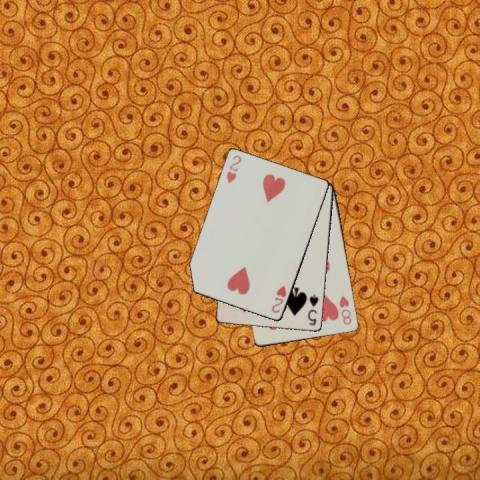2h: (223, 153, 243, 185), (269, 282, 288, 314)
5s: (305, 291, 320, 327)
8h: (337, 292, 353, 327)
